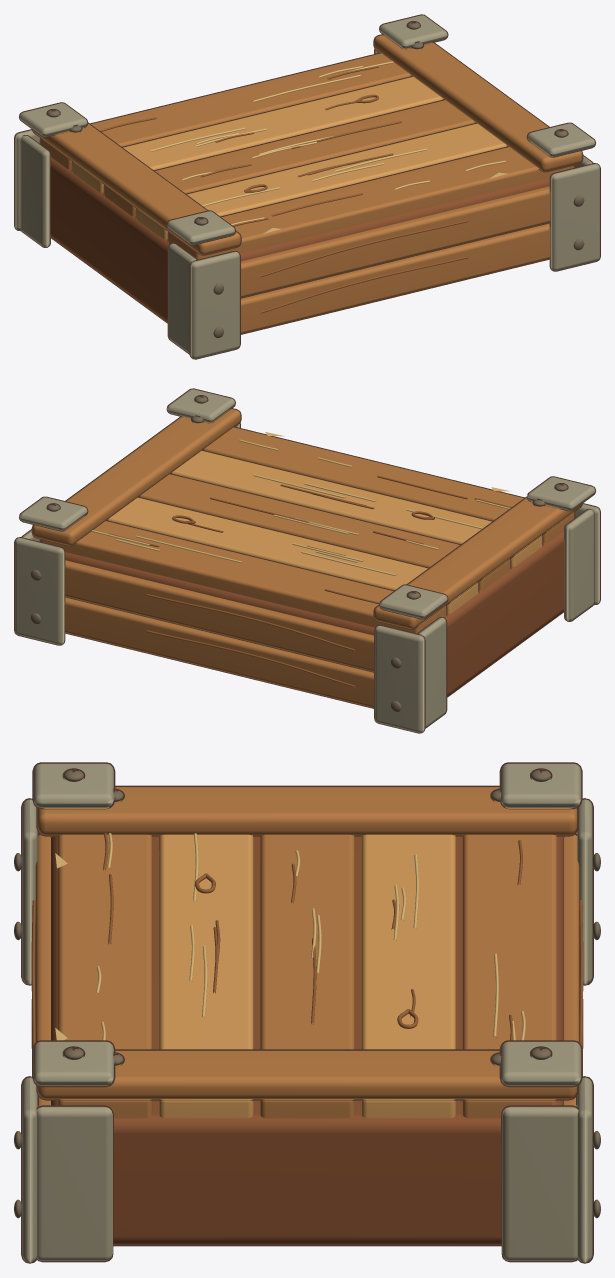
Rendered from rebuilt_10002.glb.
3 renders of one model, top to bottom at view 1: azimuth 30°, elevation 25°; view 2: azimuth 150°, elevation 25°; view 3: azimuth 270°, elevation 25°, orthographic. The views are drawn at different scales.
Parts seen in each view (by area): view 1: Surface_wood.001, Surface_metal.001, Surface_woodlight.001, Surface_wooddark.001, Surface_ink.001, Surface_grain.001, Surface_chip.001, Surface_edge.001; view 2: Surface_wood.001, Surface_metal.001, Surface_woodlight.001, Surface_wooddark.001, Surface_ink.001, Surface_grain.001, Surface_chip.001, Surface_edge.001; view 3: Surface_wood.001, Surface_wooddark.001, Surface_metal.001, Surface_woodlight.001, Surface_ink.001, Surface_grain.001, Surface_chip.001, Surface_edge.001.
Boxes of the visible parts, <box> form: Surface_wood.001: <box>33,35,582,333</box>; Surface_metal.001: <box>15,15,599,358</box>; Surface_woodlight.001: <box>72,76,506,239</box>; Surface_wooddark.001: <box>50,157,549,322</box>; Surface_ink.001: <box>14,14,600,359</box>; Surface_grain.001: <box>100,66,468,313</box>; Surface_chip.001: <box>150,61,507,233</box>; Surface_edge.001: <box>47,21,584,337</box>; Surface_wood.001: <box>32,409,581,707</box>; Surface_metal.001: <box>15,389,599,732</box>; Surface_woodlight.001: <box>108,450,542,613</box>; Surface_wooddark.001: <box>65,531,564,696</box>; Surface_ink.001: <box>14,388,600,733</box>; Surface_grain.001: <box>108,475,511,687</box>; Surface_chip.001: <box>91,432,511,575</box>; Surface_edge.001: <box>30,395,567,712</box>; Surface_wood.001: <box>35,787,579,1118</box>; Surface_wooddark.001: <box>51,836,563,1244</box>; Surface_metal.001: <box>22,763,592,1262</box>; Surface_woodlight.001: <box>159,834,455,1118</box>; Surface_ink.001: <box>21,762,593,1263</box>; Surface_grain.001: <box>31,833,583,1076</box>; Surface_chip.001: <box>55,833,525,1040</box>; Surface_edge.001: <box>14,769,600,1218</box>.
Size of the model in its own units: 0.8328 by 0.2449 by 0.6527.
